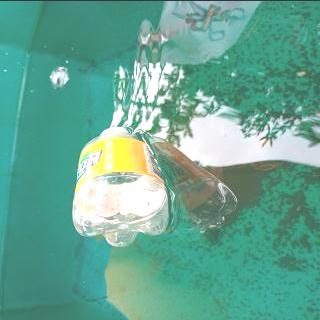bottle: (67, 125, 171, 248)
